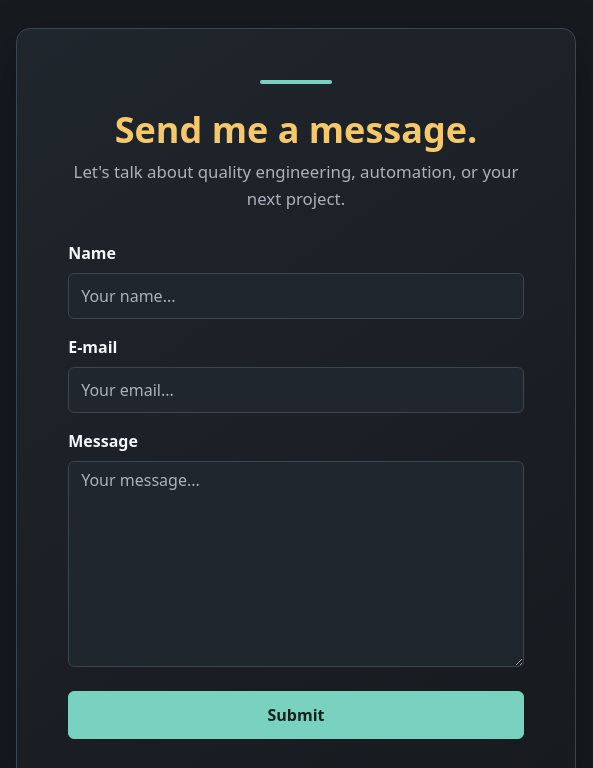
Scenario: Contact page › when sending goes wrong › lets the visitor try again after an error
Type "  Jane Doe " into the field labelled "Name".
click(296, 296); type("  Jane Doe ")  # box top-left (68, 273), bottom-right (524, 319)
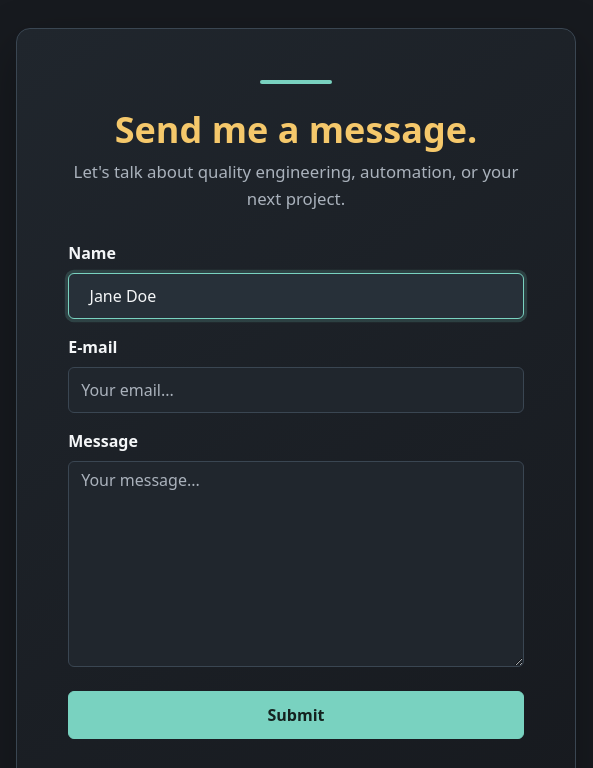
Type "jane@example.com" into the field labelled "E-mail".
click(296, 390); type("jane@example.com")  # box top-left (68, 367), bottom-right (524, 413)
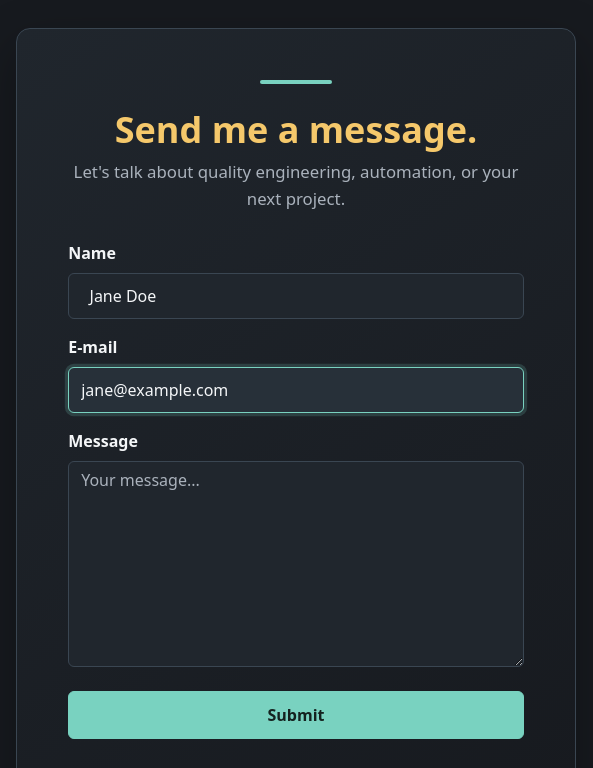
Type "Hello from a test" into the text box labelled "Message".
click(296, 564); type("Hello from a test")  # box top-left (68, 461), bottom-right (524, 667)
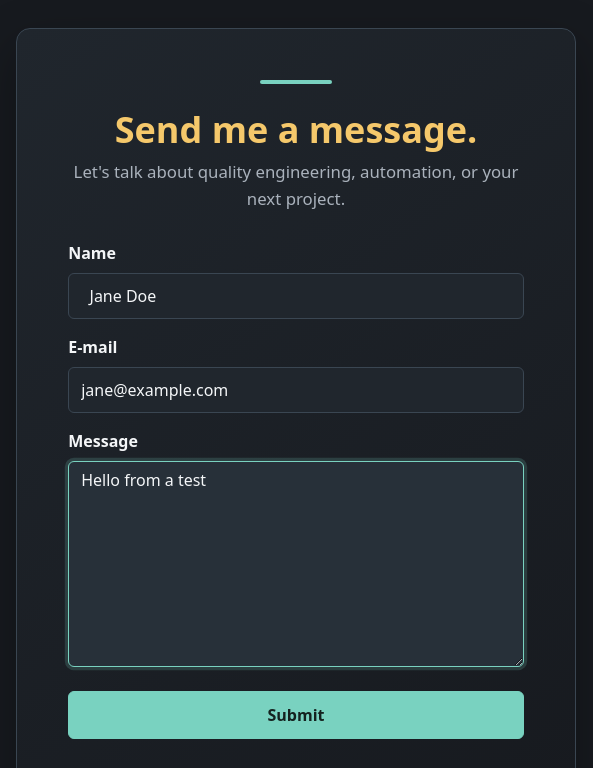
Click the button "Submit".
click(296, 715)  # box top-left (68, 691), bottom-right (524, 739)
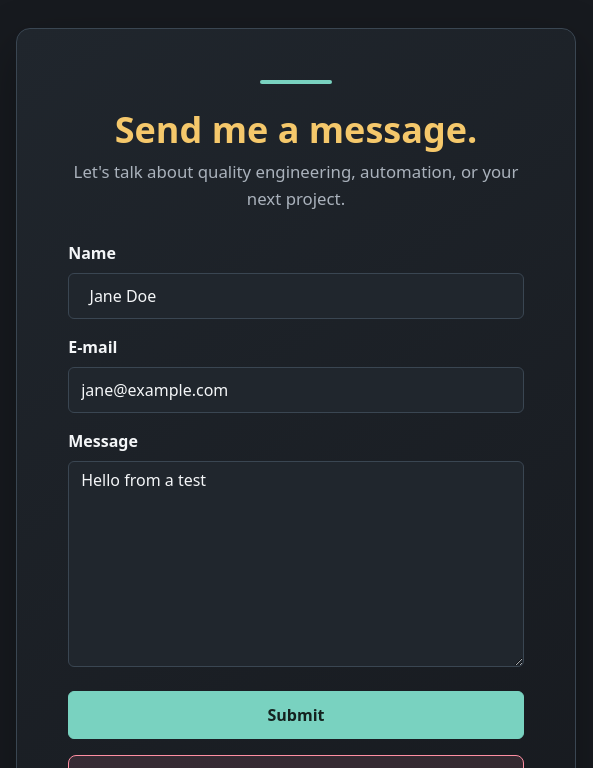
Click the button "Submit".
click(296, 715)  # box top-left (68, 691), bottom-right (524, 739)
(page scrolled)
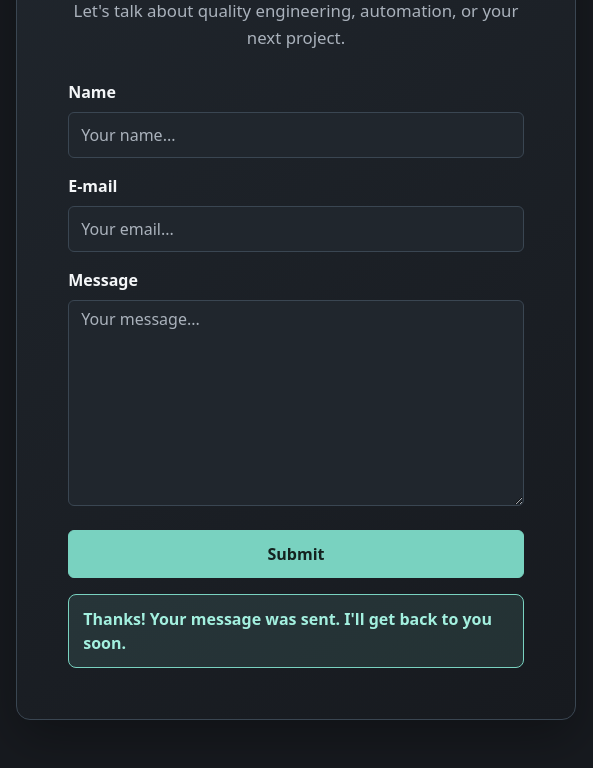
Result: the message shows "Your message was sent" at top-left (83, 608), bottom-right (492, 654)
